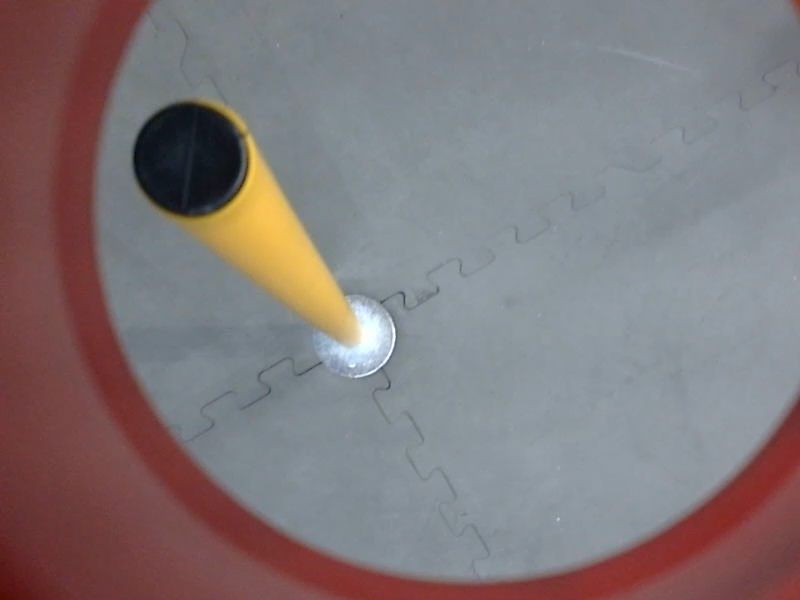tip: (122, 92, 261, 227)
